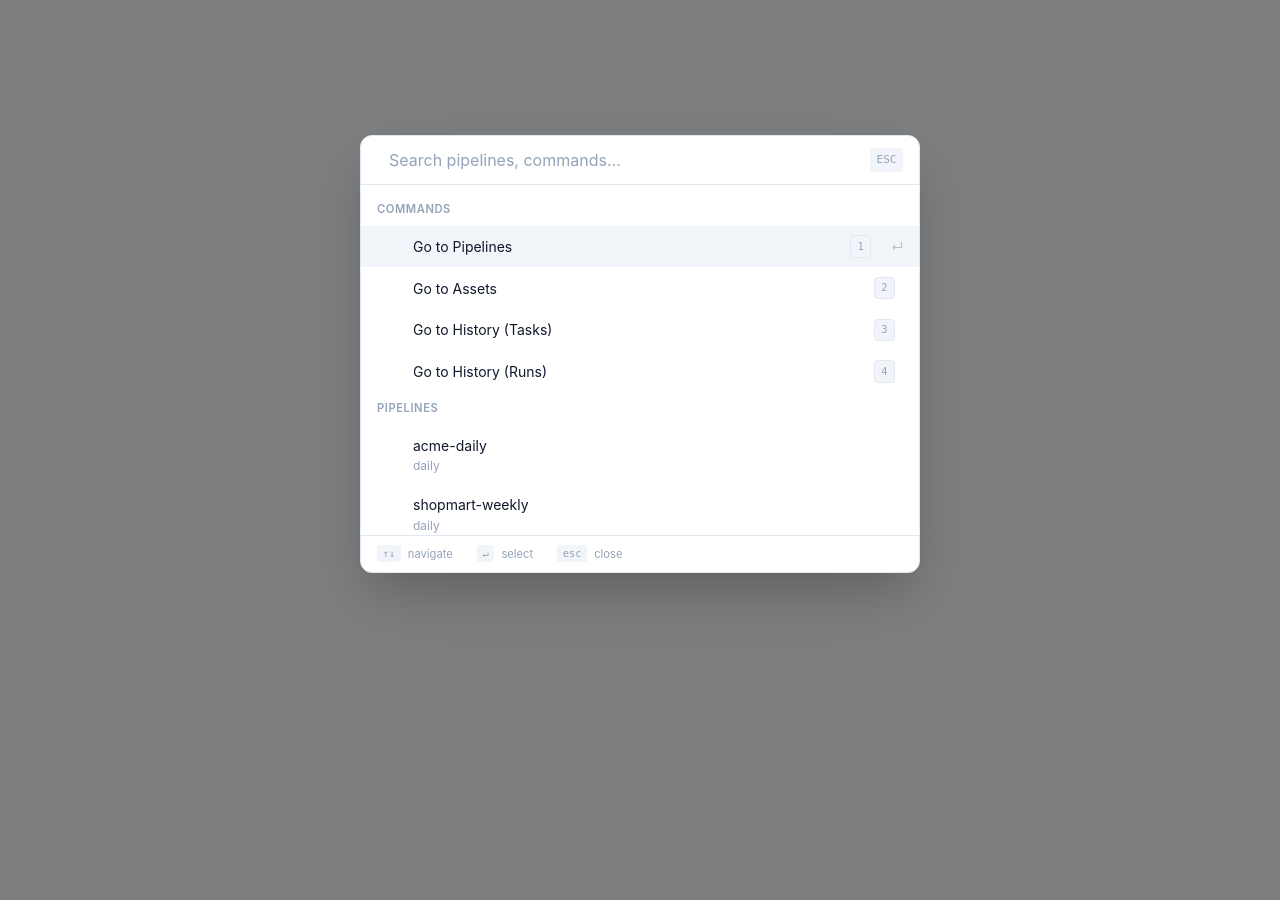
Test case: CommandPalette › search filtering › filters commands by query
This screenshot has width=1280, height=900.
Type "assets" into the dropdown at coordinates (624, 160), box top-left (389, 148), bottom-right (858, 172)
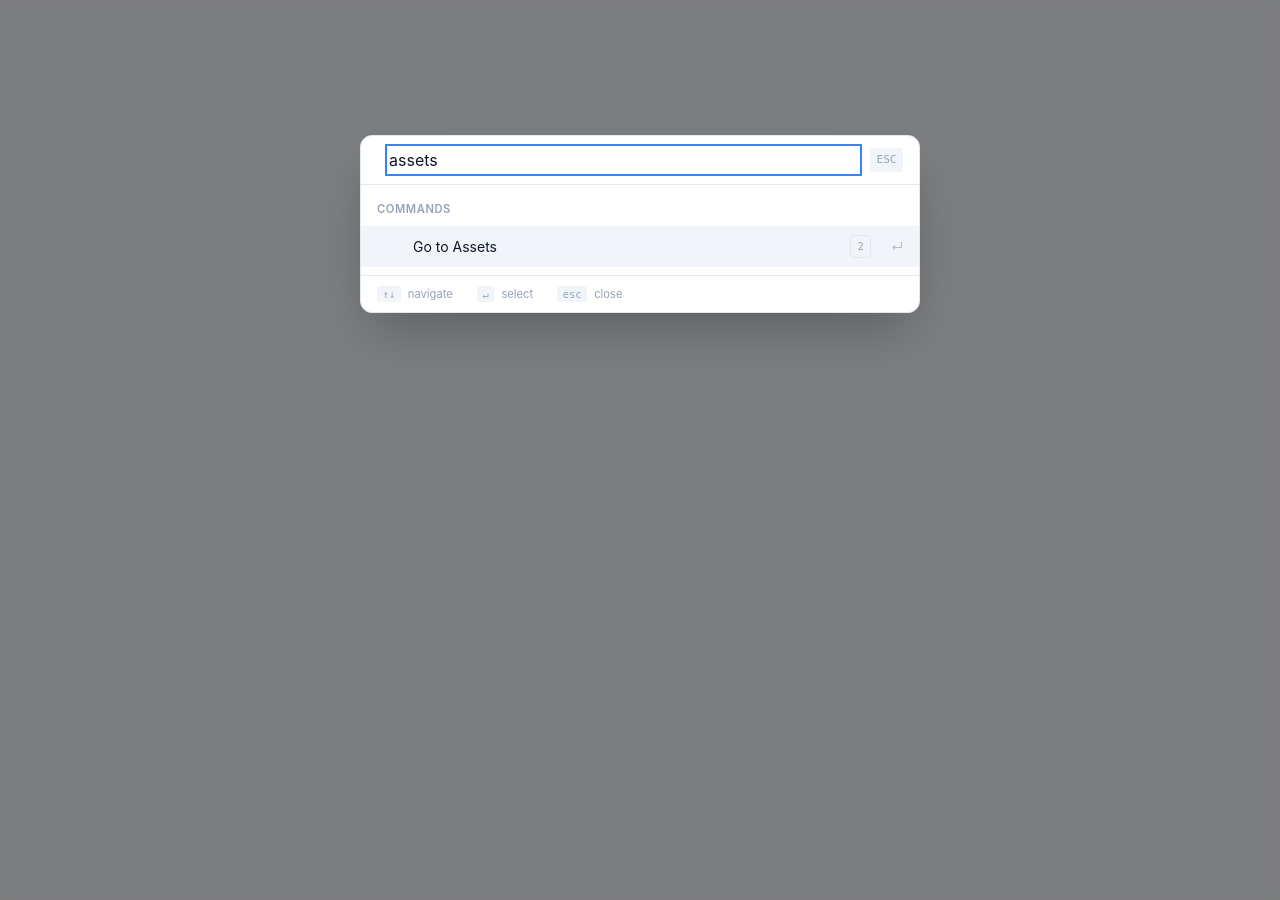
Expected: the text "Go to Assets" is shown, top-left (413, 238), bottom-right (497, 255)
Now the option "Go to Pipelines" is gone
